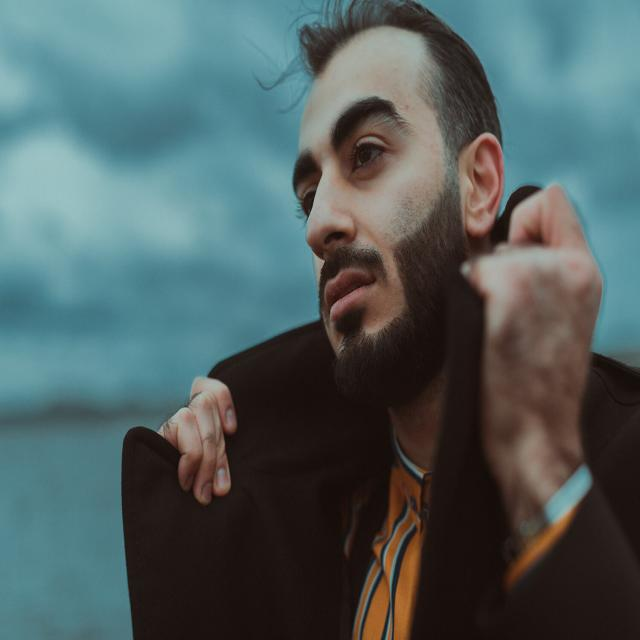beard: (334, 214, 466, 405), (319, 248, 368, 317)
hair: (260, 1, 502, 155)
